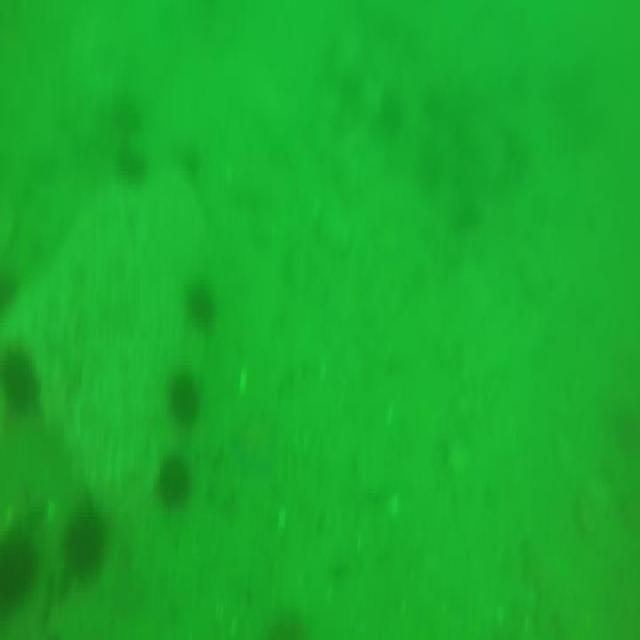echinus: (61, 499, 107, 578), (0, 532, 36, 616), (0, 346, 40, 414), (154, 450, 191, 509), (167, 373, 202, 427), (114, 144, 146, 182), (0, 254, 17, 321), (190, 281, 214, 324)
